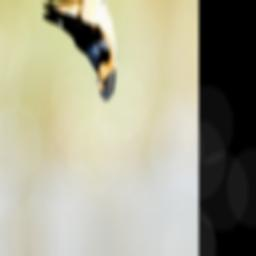Swallow: (28, 0, 117, 102)
